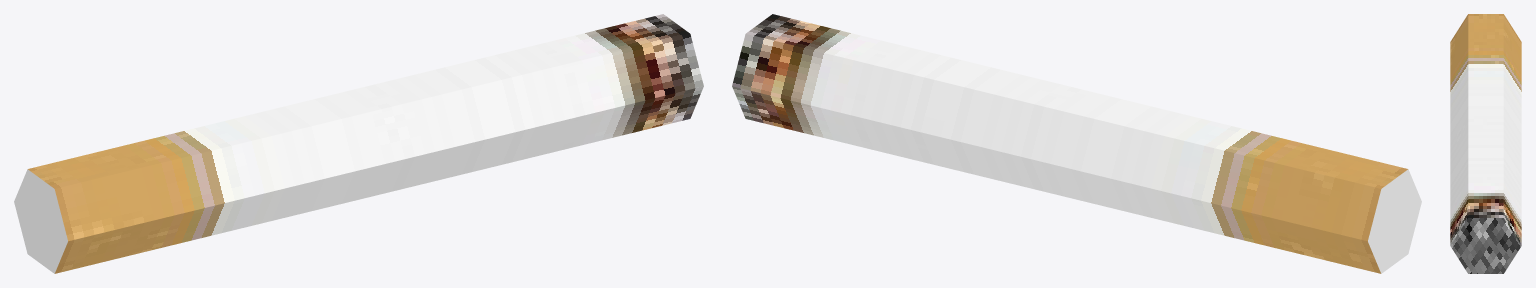
Rendered from cigarette.glb.
3 views of the same model, side by side, from view 1: azimuth 30°, elevation 25°; view 2: azimuth 150°, elevation 25°; view 3: azimuth 270°, elevation 25° (orthographic). The views are drawn at different scales.
Visible parts, largest first — view 1: Object_2; view 2: Object_2; view 3: Object_2.
Part boxes in pixels (box(x1,y1,x2,y2)): Object_2: box(14, 14, 703, 273); Object_2: box(732, 14, 1421, 273); Object_2: box(1450, 14, 1521, 273).
Bounding box in the file's own units: 5.42 × 0.6928 × 0.8.
1 material, 1 textured.
